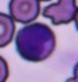L: (16, 22, 55, 62)
